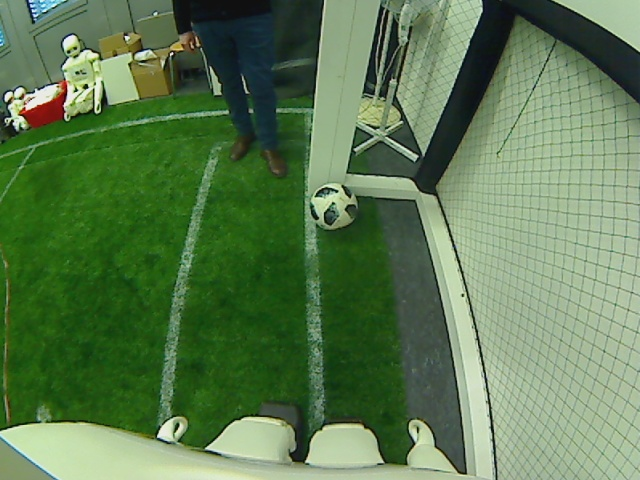ball: (311, 180, 357, 229)
